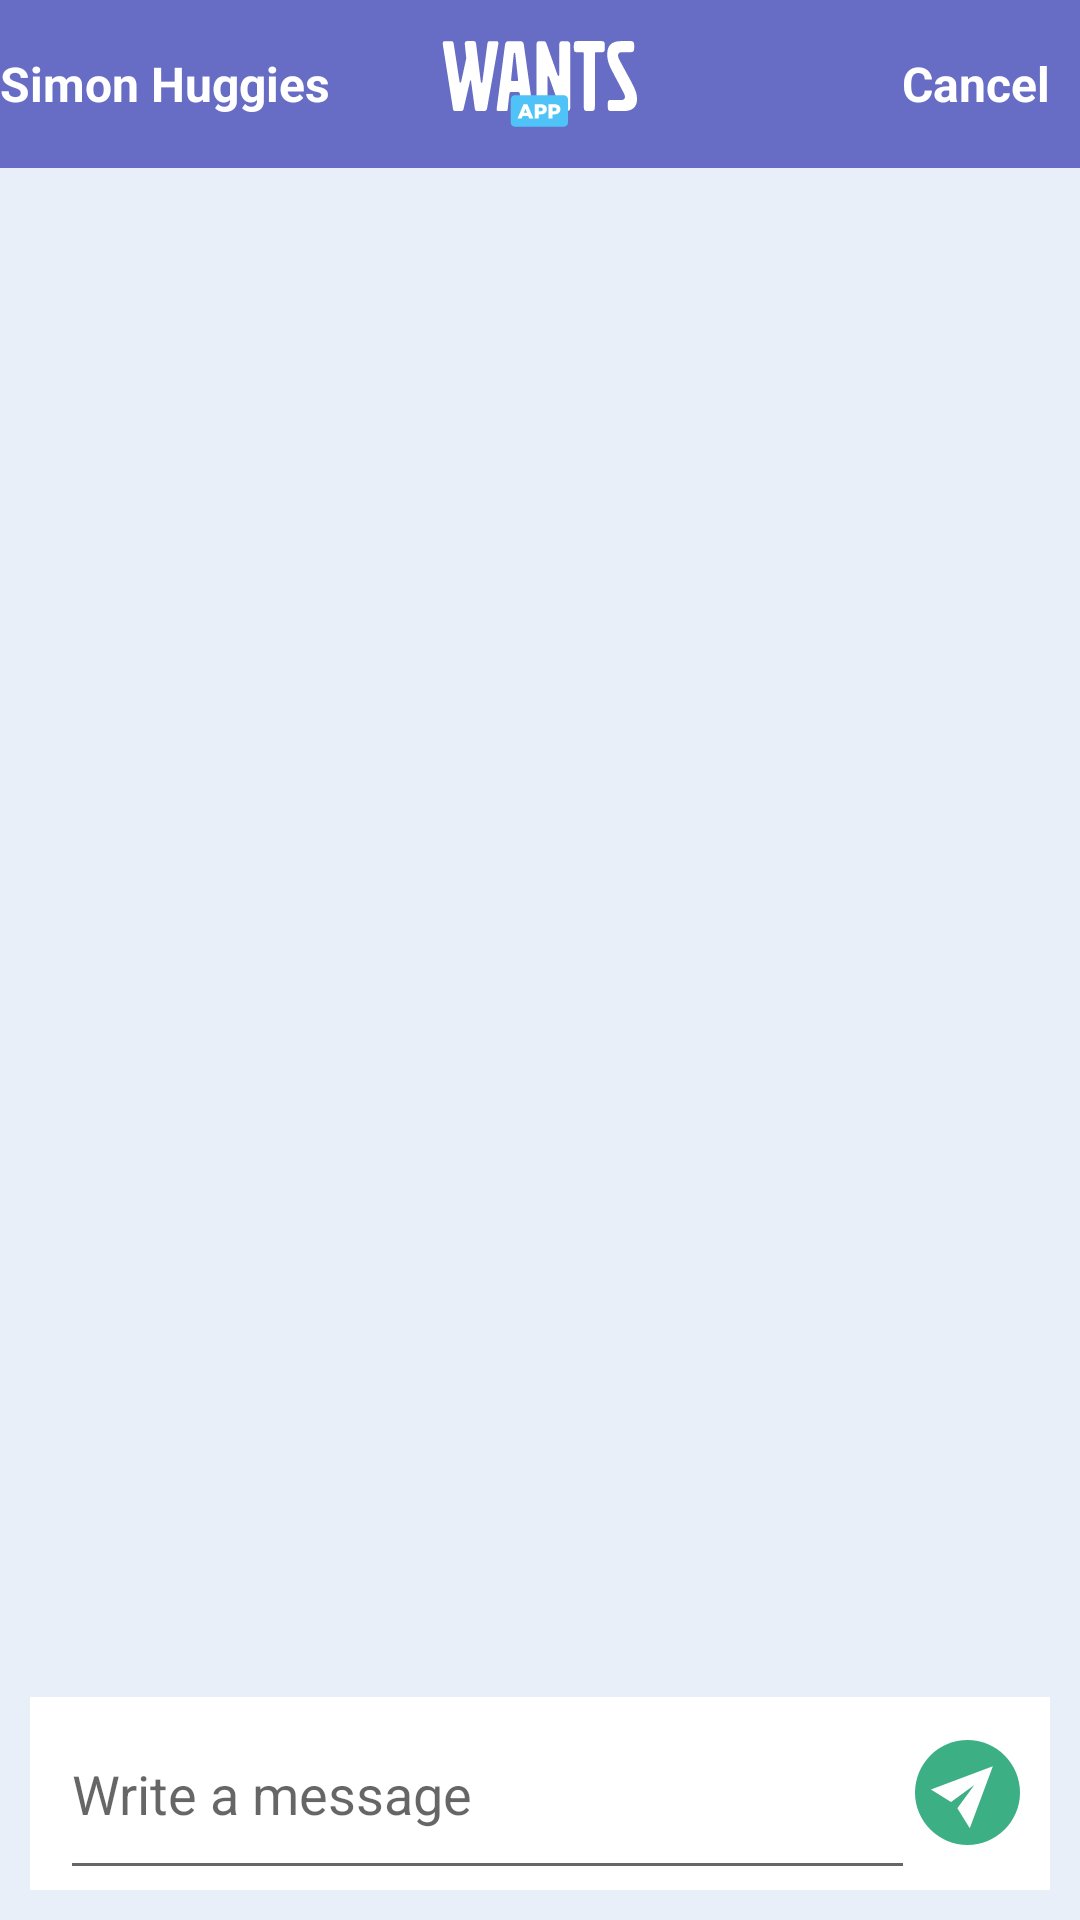

Named icons in this screenshot (1080x1920) and their centers, point (x, y):
send: point (967, 1792)
